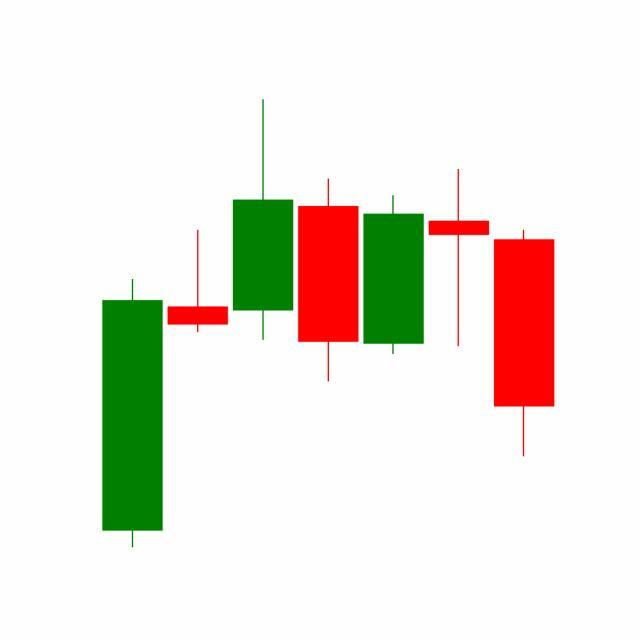Hikkake Pattern: (229, 99, 555, 462)
